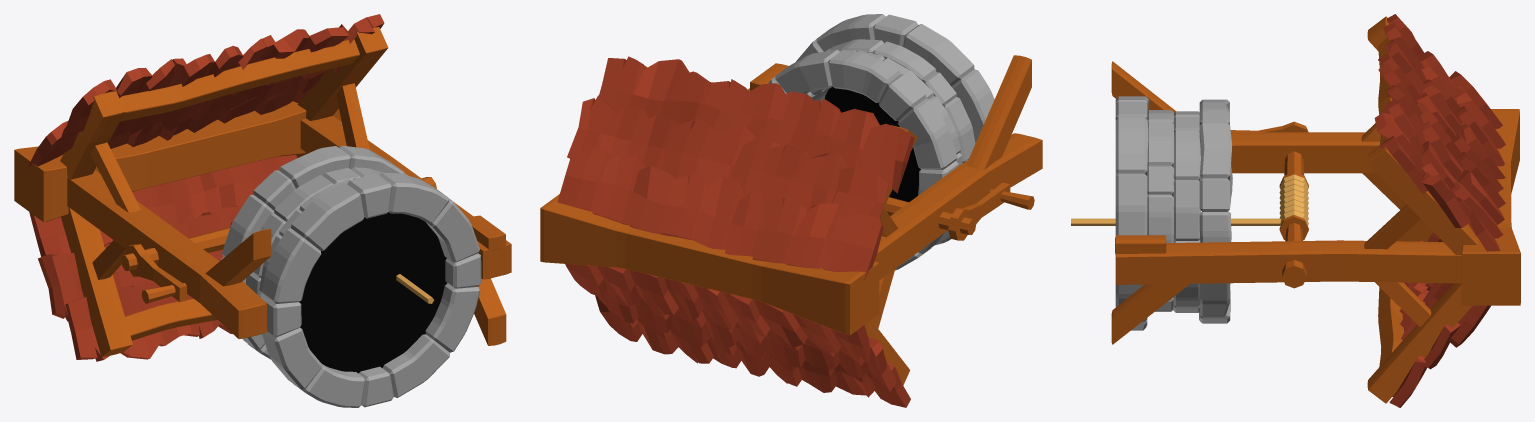
The model's file is Well.fbx.
3 views of the same model, side by side, from view 1: azimuth 30°, elevation 25°; view 2: azimuth 150°, elevation 25°; view 3: azimuth 270°, elevation 25° (orthographic). The views are drawn at different scales.
Parts seen in each view (by area): view 1: roof, well, tiles, manivel; view 2: tiles, roof, well, manivel; view 3: roof, tiles, well, rope, manivel.
Part boxes in pixels (x1,y1,x2,y2): roof: (14, 27, 511, 357); well: (220, 145, 481, 407); tiles: (28, 14, 384, 361); manivel: (121, 177, 436, 303); tiles: (557, 56, 914, 407); roof: (540, 55, 1042, 385); well: (768, 14, 994, 270); manivel: (884, 182, 1034, 240); roof: (1111, 16, 1520, 403); tiles: (1374, 14, 1505, 407); well: (1115, 96, 1232, 330); rope: (1071, 172, 1308, 239); manivel: (1230, 121, 1308, 288).
Bounding box in the file's own units: 448 × 376 × 539.
